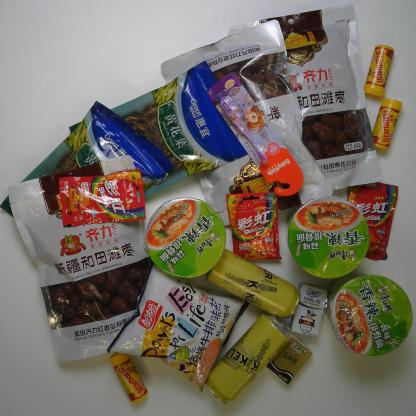Alcohol: (203, 310, 294, 407), (204, 249, 300, 319)
Candy: (59, 167, 146, 228), (345, 180, 400, 263), (224, 192, 282, 262), (110, 352, 150, 404), (372, 97, 404, 152), (364, 42, 394, 100)
Dried Food: (158, 17, 336, 211), (7, 150, 154, 364), (227, 5, 380, 188), (69, 58, 245, 200), (0, 98, 177, 216)
Instant Noodles: (325, 272, 414, 357), (284, 195, 372, 280), (144, 196, 228, 280)
Milk: (289, 282, 330, 339)
Personal Hygiene: (206, 73, 304, 198)
Puffed Food: (106, 260, 252, 394)
Tissue: (265, 333, 314, 385)
